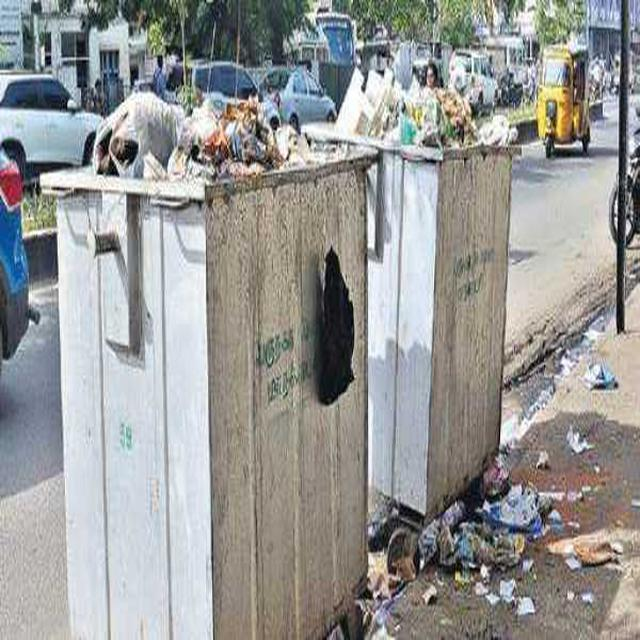garbage: (80, 84, 308, 190), (411, 457, 544, 578), (345, 66, 489, 150)
